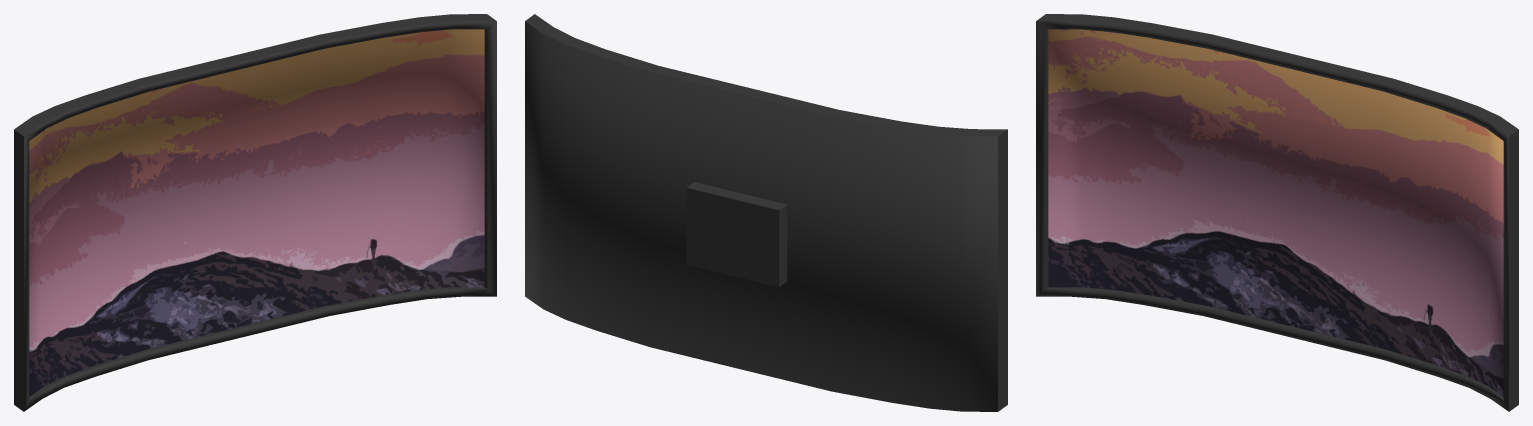
The model's file is tv_curved.glb.
3 renders of one model, left to right at view 1: azimuth 30°, elevation 25°; view 2: azimuth 150°, elevation 25°; view 3: azimuth 330°, elevation 25°, orthographic.
Parts seen in each view (by area): view 1: TV 2 (Curved Wall-mounted); view 2: TV 2 (Curved Wall-mounted); view 3: TV 2 (Curved Wall-mounted).
Part boxes in pixels (x1,y1,x2,y2): TV 2 (Curved Wall-mounted): (14,14,496,411); TV 2 (Curved Wall-mounted): (525,14,1007,411); TV 2 (Curved Wall-mounted): (1036,14,1518,411).
Size of the model in its own units: 1.47 by 0.8161 by 0.2067.
Materials: 2 (2 with a texture image).
